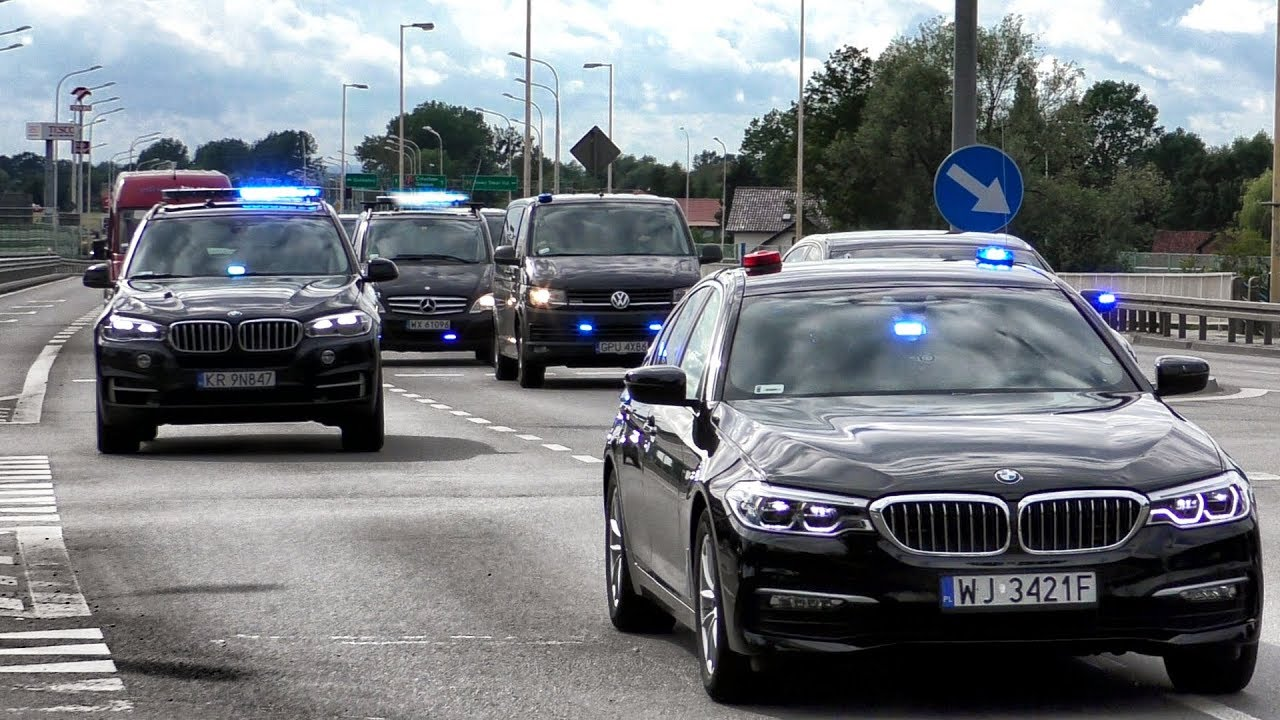number_plate: (940, 569, 1100, 609)
